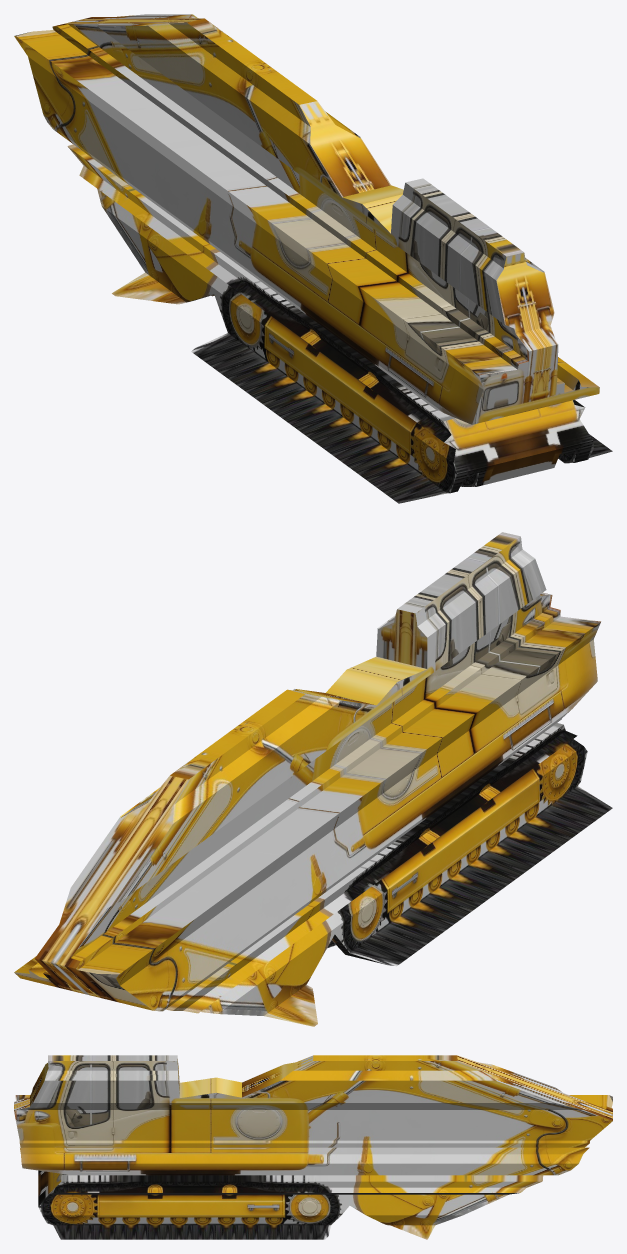
Rendered from excavator.glb.
3 views of the same model, one above another, from view 1: azimuth 30°, elevation 25°; view 2: azimuth 150°, elevation 25°; view 3: azimuth 270°, elevation 25° (orthographic). The views are drawn at different scales.
Visible parts, largest first — view 1: excavator; view 2: excavator; view 3: excavator.
Part boxes in pixels (x1=…): excavator: x1=14, y1=14, x2=612, y2=503; excavator: x1=14, y1=532, x2=612, y2=1026; excavator: x1=14, y1=1055, x2=612, y2=1239.
Size of the model in its own units: 2.52 by 2.65 by 9.49.
2 materials, 1 textured.
